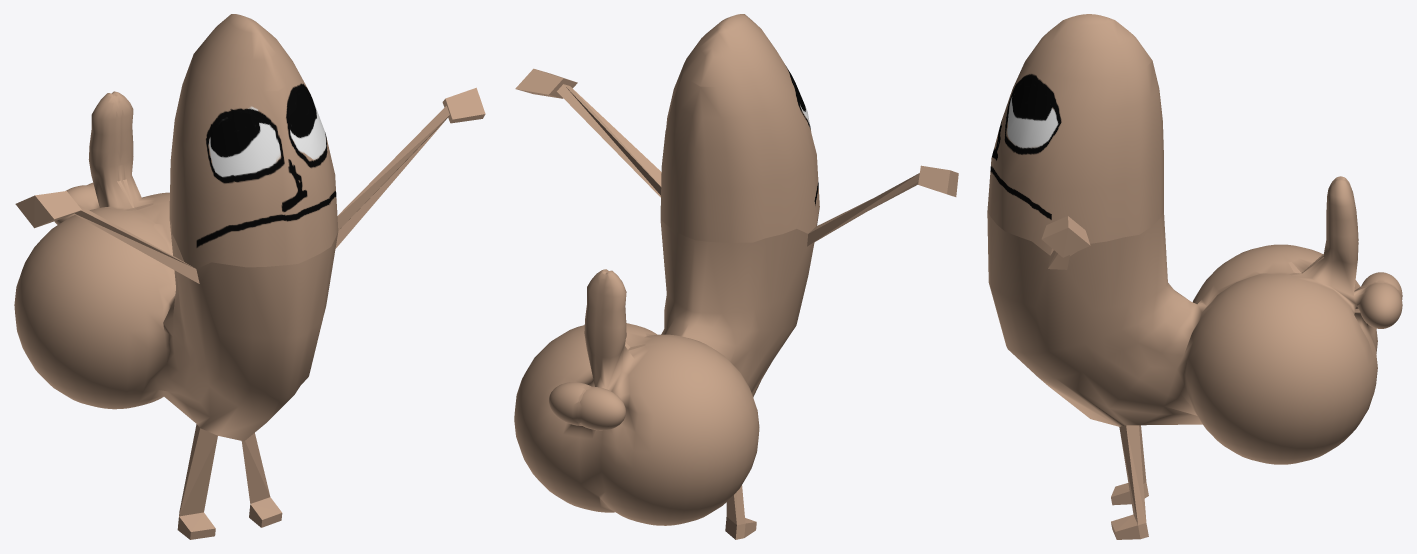
Rendered from dickbutt.FBX.
The picture shows the model from 3 angles, left to right: view 1: azimuth 30°, elevation 25°; view 2: azimuth 150°, elevation 25°; view 3: azimuth 270°, elevation 25°; orthographic projection. The views are drawn at different scales.
Parts seen in each view (by area): view 1: Sphere001, head; view 2: Sphere001, head; view 3: Sphere001, head.
Boxes of the visible parts, x1,y1,x2,y2 form: Sphere001: [14, 87, 485, 539]; head: [169, 14, 338, 268]; Sphere001: [514, 68, 958, 539]; head: [660, 14, 819, 242]; Sphere001: [987, 176, 1402, 539]; head: [987, 14, 1163, 255].
Size of the model in its own units: 88.79 by 97.57 by 73.1.
Materials: 2 (2 with a texture image).
